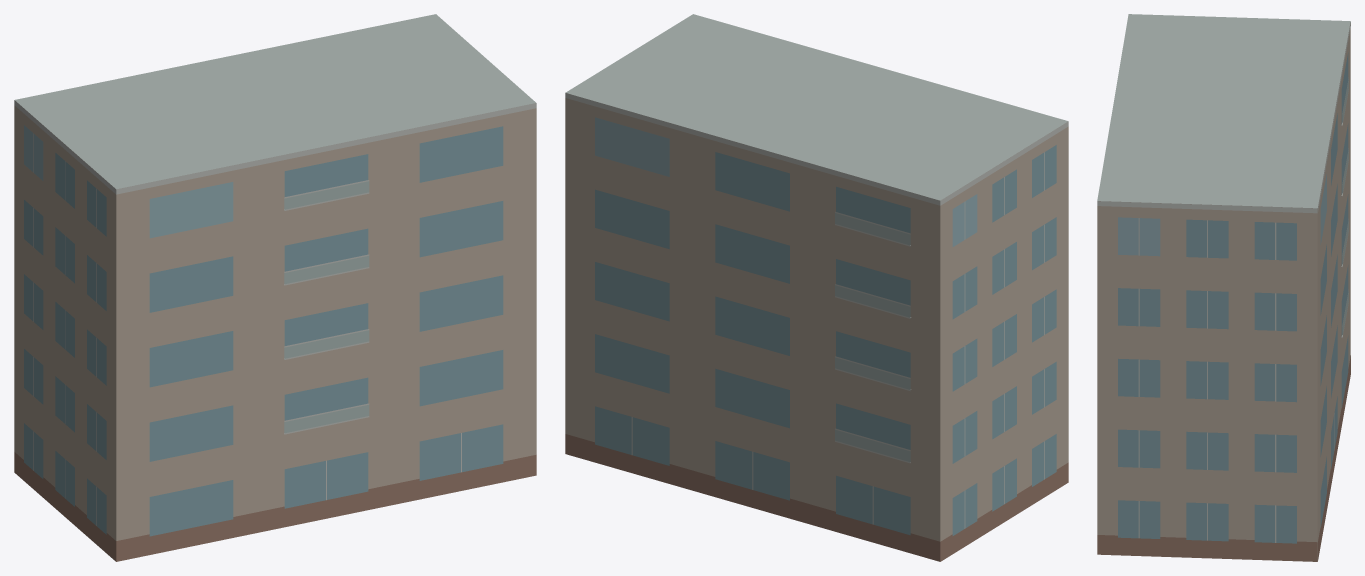
File: survey-upis-32867993.glb
3 renders of one model, left to right at view 1: azimuth 30°, elevation 25°; view 2: azimuth 150°, elevation 25°; view 3: azimuth 270°, elevation 25°, orthographic. The views are drawn at different scales.
Parts seen in each view (by area): view 1: survey-upis-32867993.tmp; view 2: survey-upis-32867993.tmp; view 3: survey-upis-32867993.tmp.
Part boxes in pixels (box(x1,y1,x2,y2)): survey-upis-32867993.tmp: box(14, 14, 536, 561); survey-upis-32867993.tmp: box(565, 14, 1068, 561); survey-upis-32867993.tmp: box(1097, 14, 1350, 561).
Bounding box in the file's own units: 20.28 × 17.2 × 11.19.
